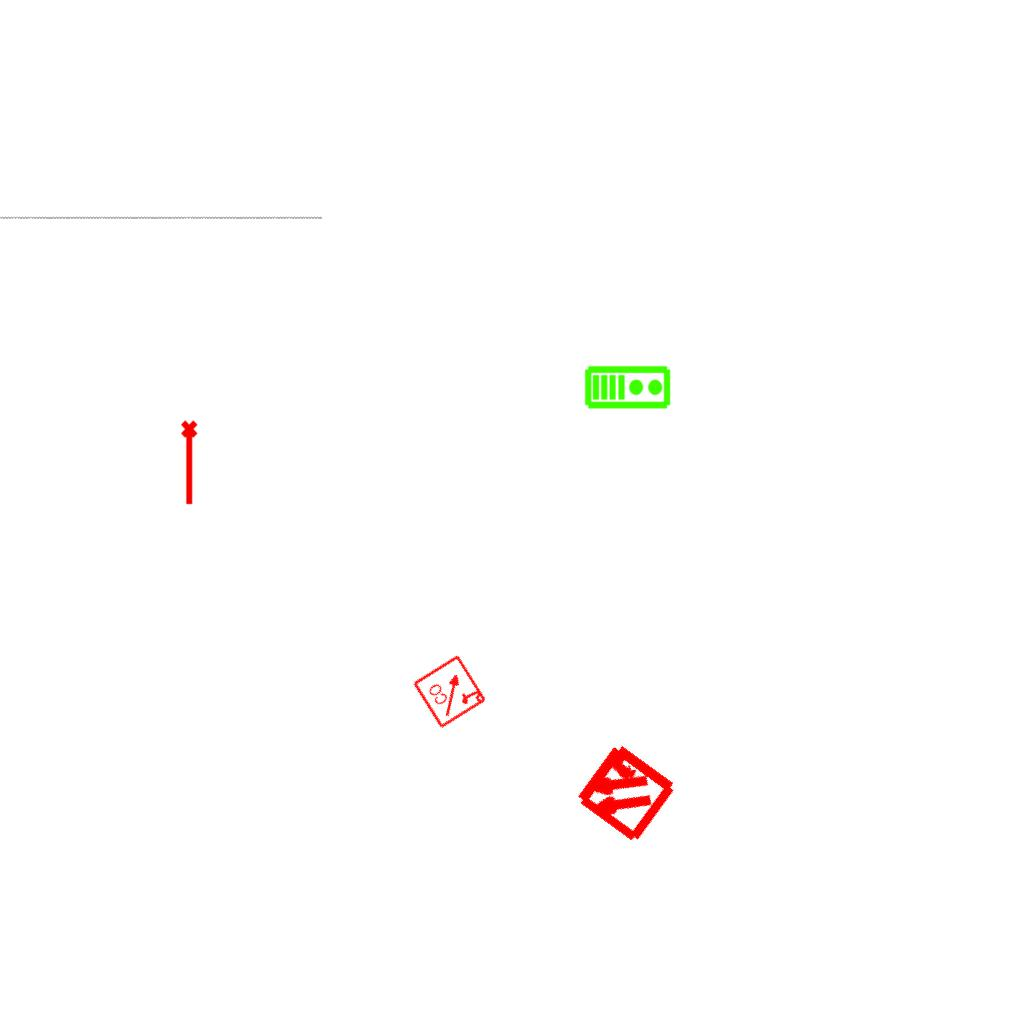ASR_Ansaugoeffnung: (179, 419, 202, 507)
Gegensprechanlage_mit_Video: (584, 363, 672, 410)
OT_Multisensormelder_(Kombination_RMO_WMD): (545, 712, 704, 871)
ROA_Rauchmelder_optisch_mit_Signalgeber_(Sockelsirene): (411, 652, 489, 730)
